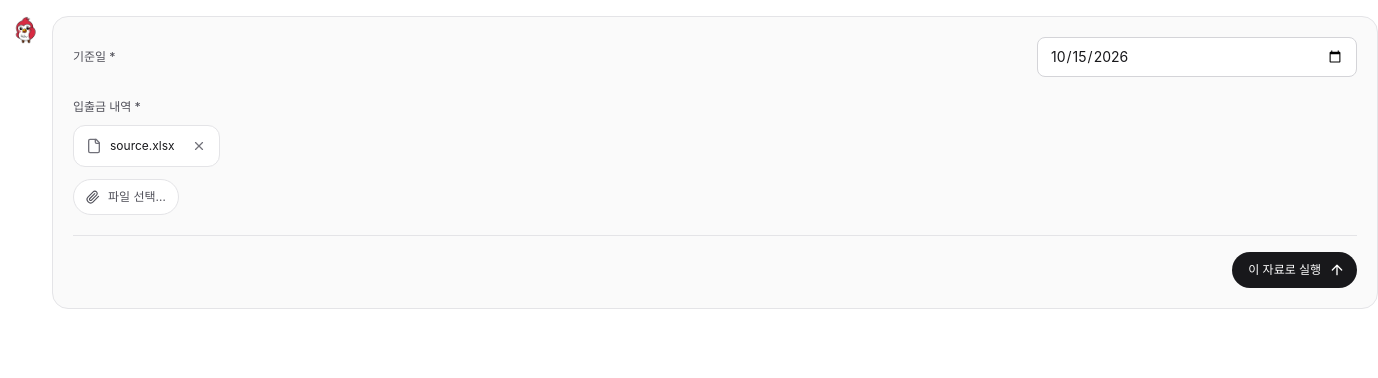
Test: keeps a rejected input visible for correction
The image size is (1378, 378).
Expected: the text "source.xlsx" is shown, [110,138,175,154]
Click the button "이 자료로 실행".
click(1295, 270)  # box [1232,252,1357,288]
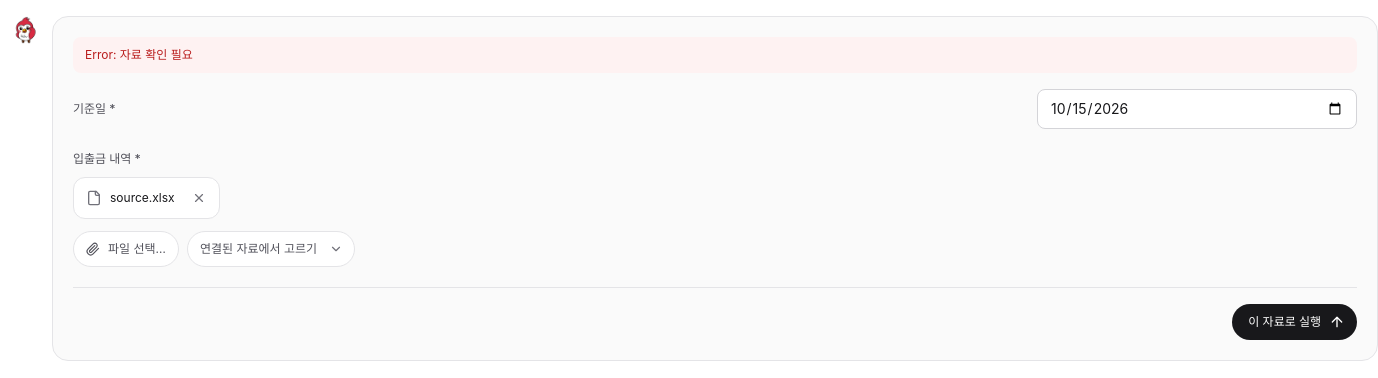
Result: the message shows "자료 확인 필요" at [85,47,193,62]
